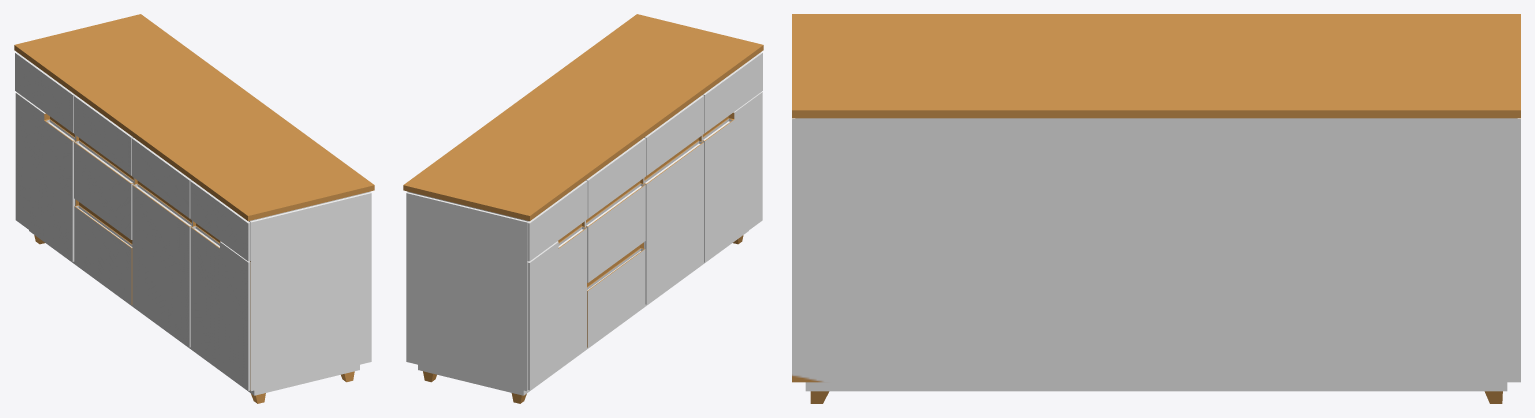
Rendered from Komode1.fbx.
The picture shows the model from 3 angles, left to right: view 1: azimuth 30°, elevation 25°; view 2: azimuth 150°, elevation 25°; view 3: azimuth 270°, elevation 25°; orthographic projection. The views are drawn at different scales.
Parts seen in each view (by area): view 1: Kommode; view 2: Kommode; view 3: Kommode.
Boxes of the visible parts, left/top/right/bottom form: Kommode: left=14, top=14, right=374, bottom=403; Kommode: left=403, top=14, right=763, bottom=403; Kommode: left=792, top=14, right=1520, bottom=403.
Size of the model in its own units: 63.03 by 93.22 by 202.
